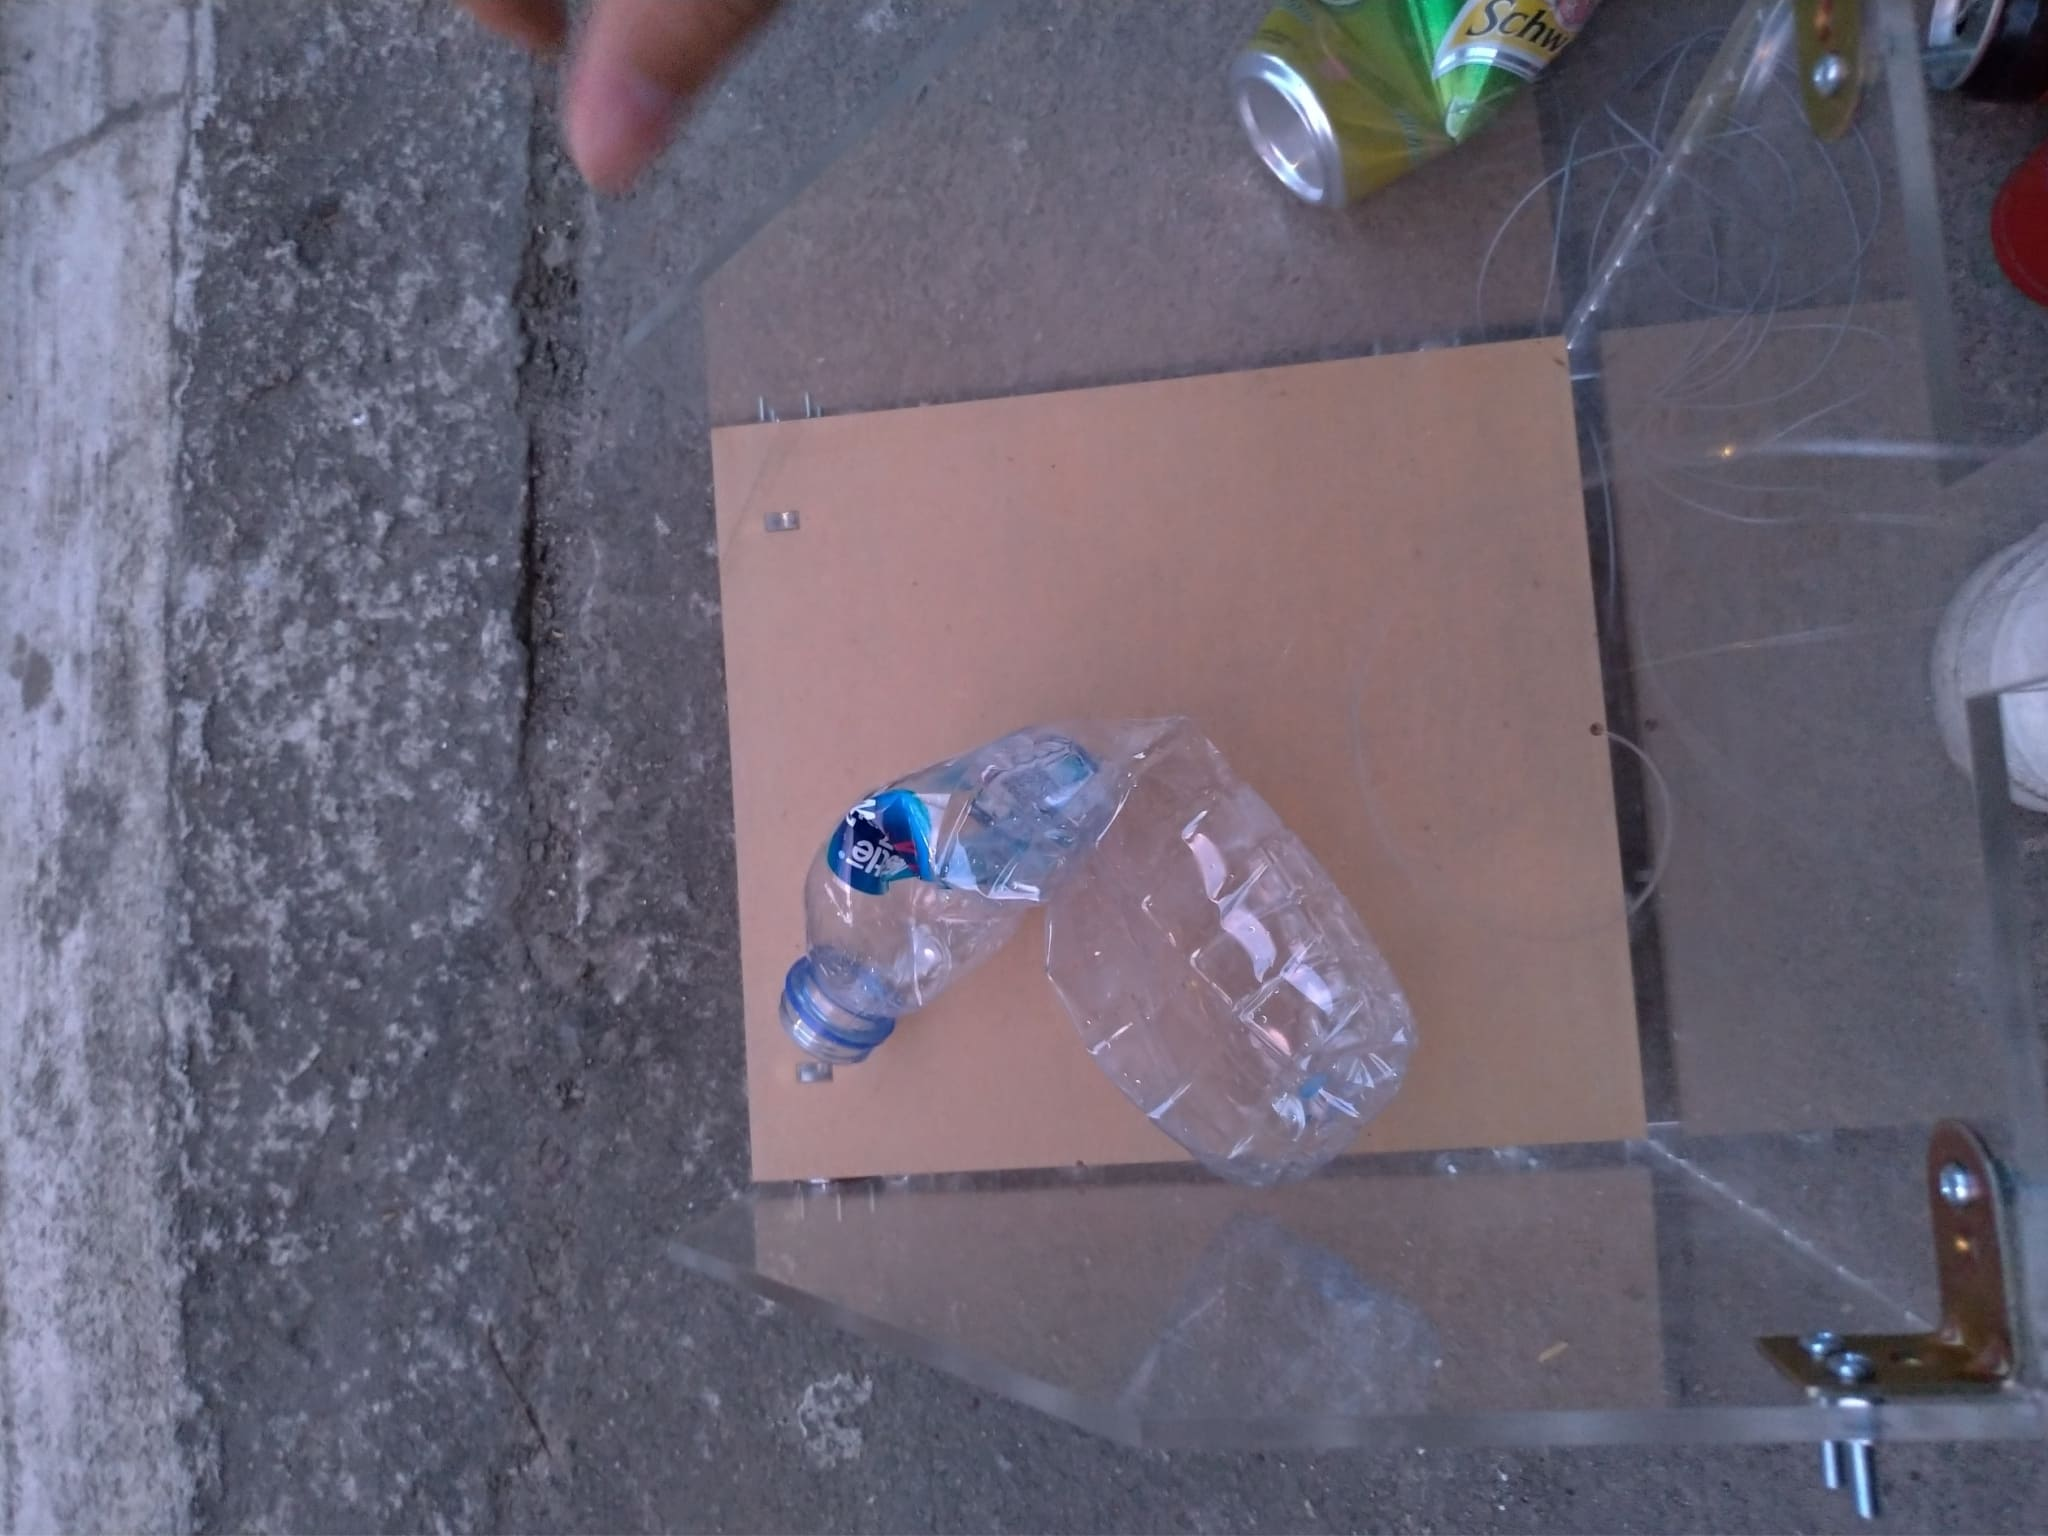AlCan: (1237, 11, 1593, 210)
PlasticBottle: (769, 716, 1422, 1186)
